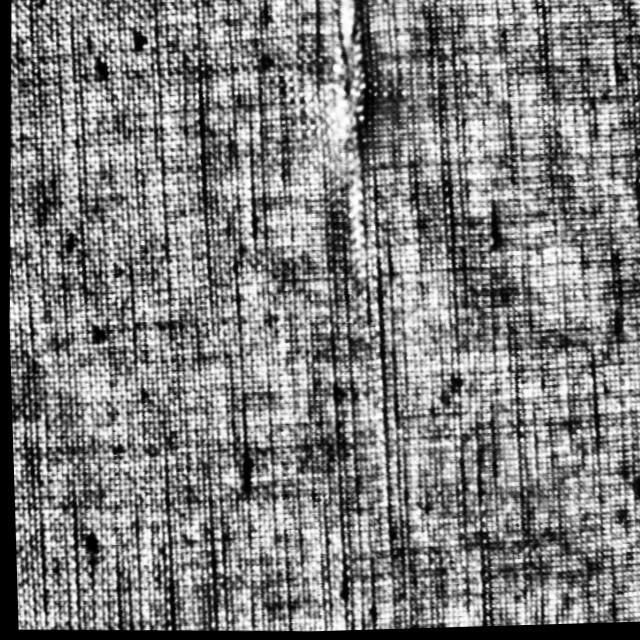Stitch: (311, 0, 390, 262)
